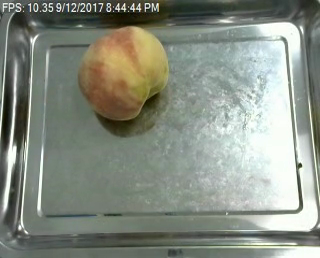Peach: (79, 24, 170, 120)
